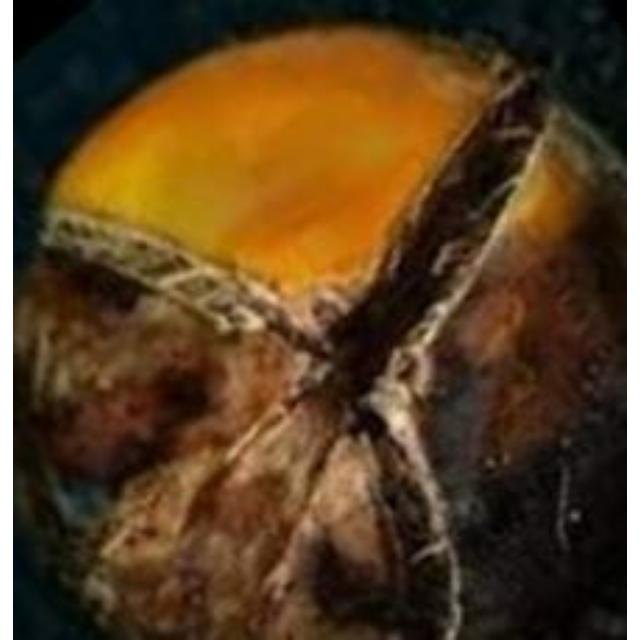damaged: (13, 20, 625, 637)
